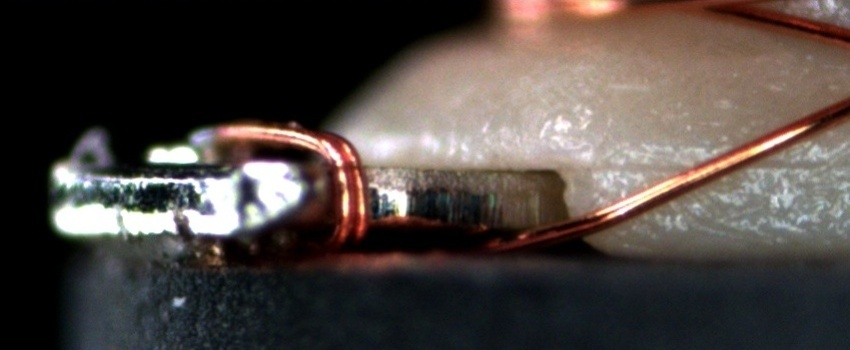DL: (575, 132, 849, 196)
TE: (194, 109, 372, 257)
